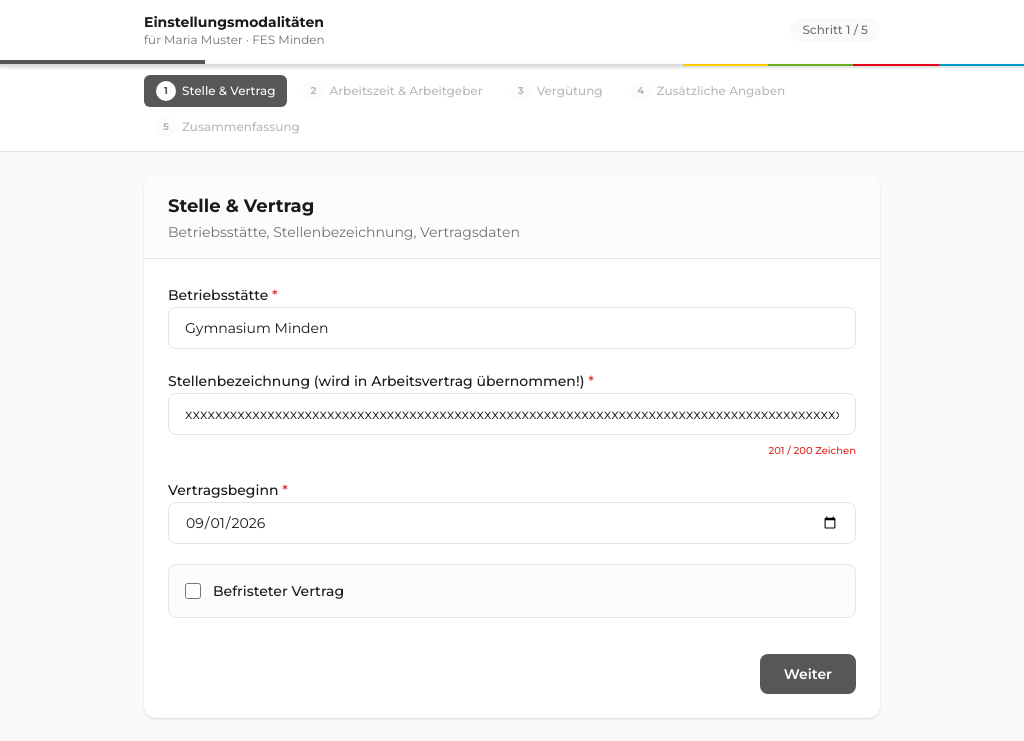
Stellenbezeichnung im Formular › weist einen zu langen Bestandswert beim Weiter sichtbar ab und sendet nichts
Click the button "Weiter".
click(808, 674)  # box [760, 654, 856, 694]
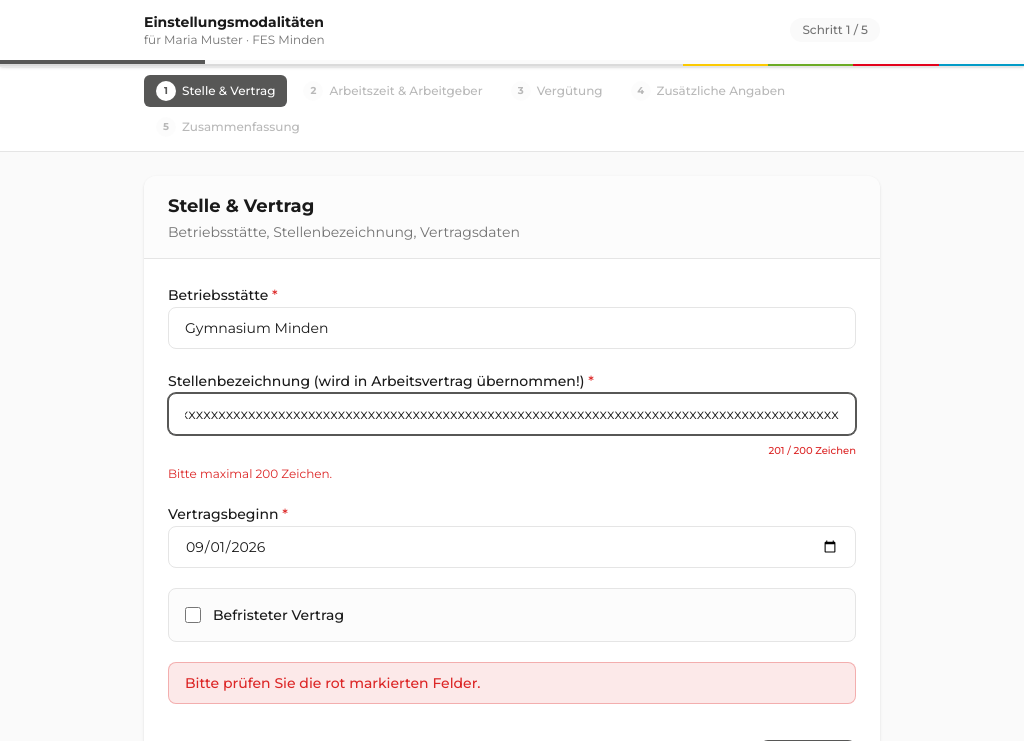
Result: the text "Bitte maximal 200 Zeichen." is shown at [168, 466, 332, 481]
Result: the text "Bitte prüfen Sie die rot markierten Felder." is shown at [168, 662, 856, 704]
